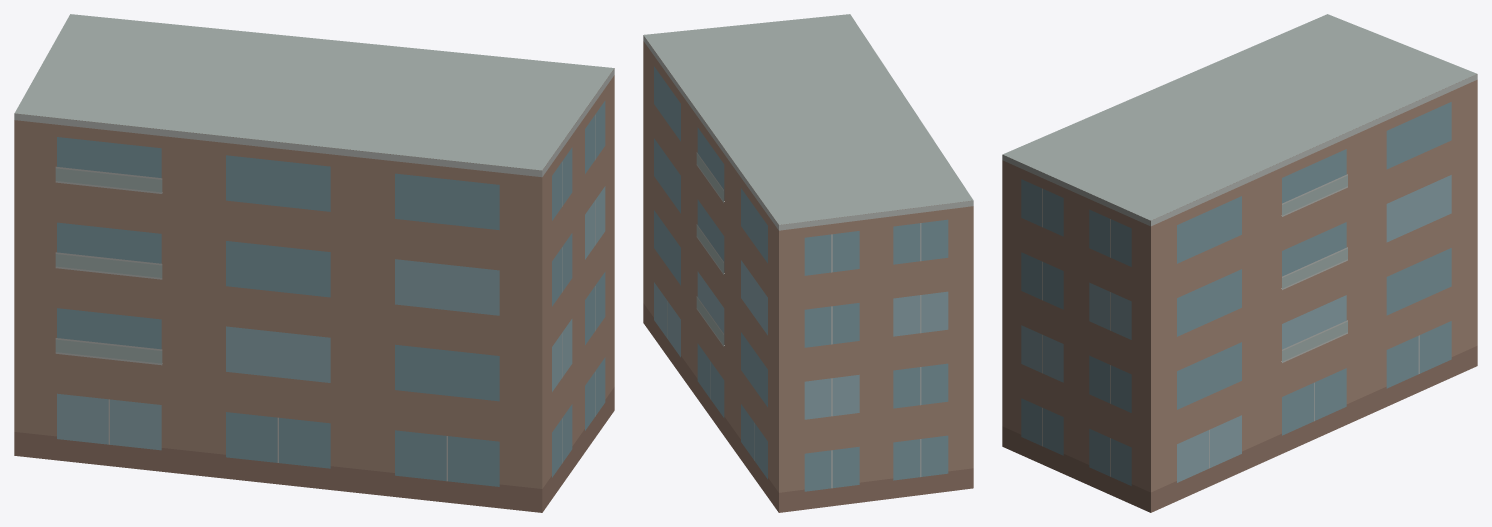
File: survey-upis-33023699.glb
3 views of the same model, side by side, from view 1: azimuth 30°, elevation 25°; view 2: azimuth 150°, elevation 25°; view 3: azimuth 270°, elevation 25° (orthographic). The views are drawn at different scales.
Visible parts, largest first — view 1: survey-upis-33023699.tmp; view 2: survey-upis-33023699.tmp; view 3: survey-upis-33023699.tmp.
Part boxes in pixels (x1=…): survey-upis-33023699.tmp: x1=14, y1=14, x2=614, y2=512; survey-upis-33023699.tmp: x1=643, y1=14, x2=973, y2=512; survey-upis-33023699.tmp: x1=1002, y1=14, x2=1477, y2=512.
Bounding box in the file's own units: 18.83 × 12.4 × 18.28.
